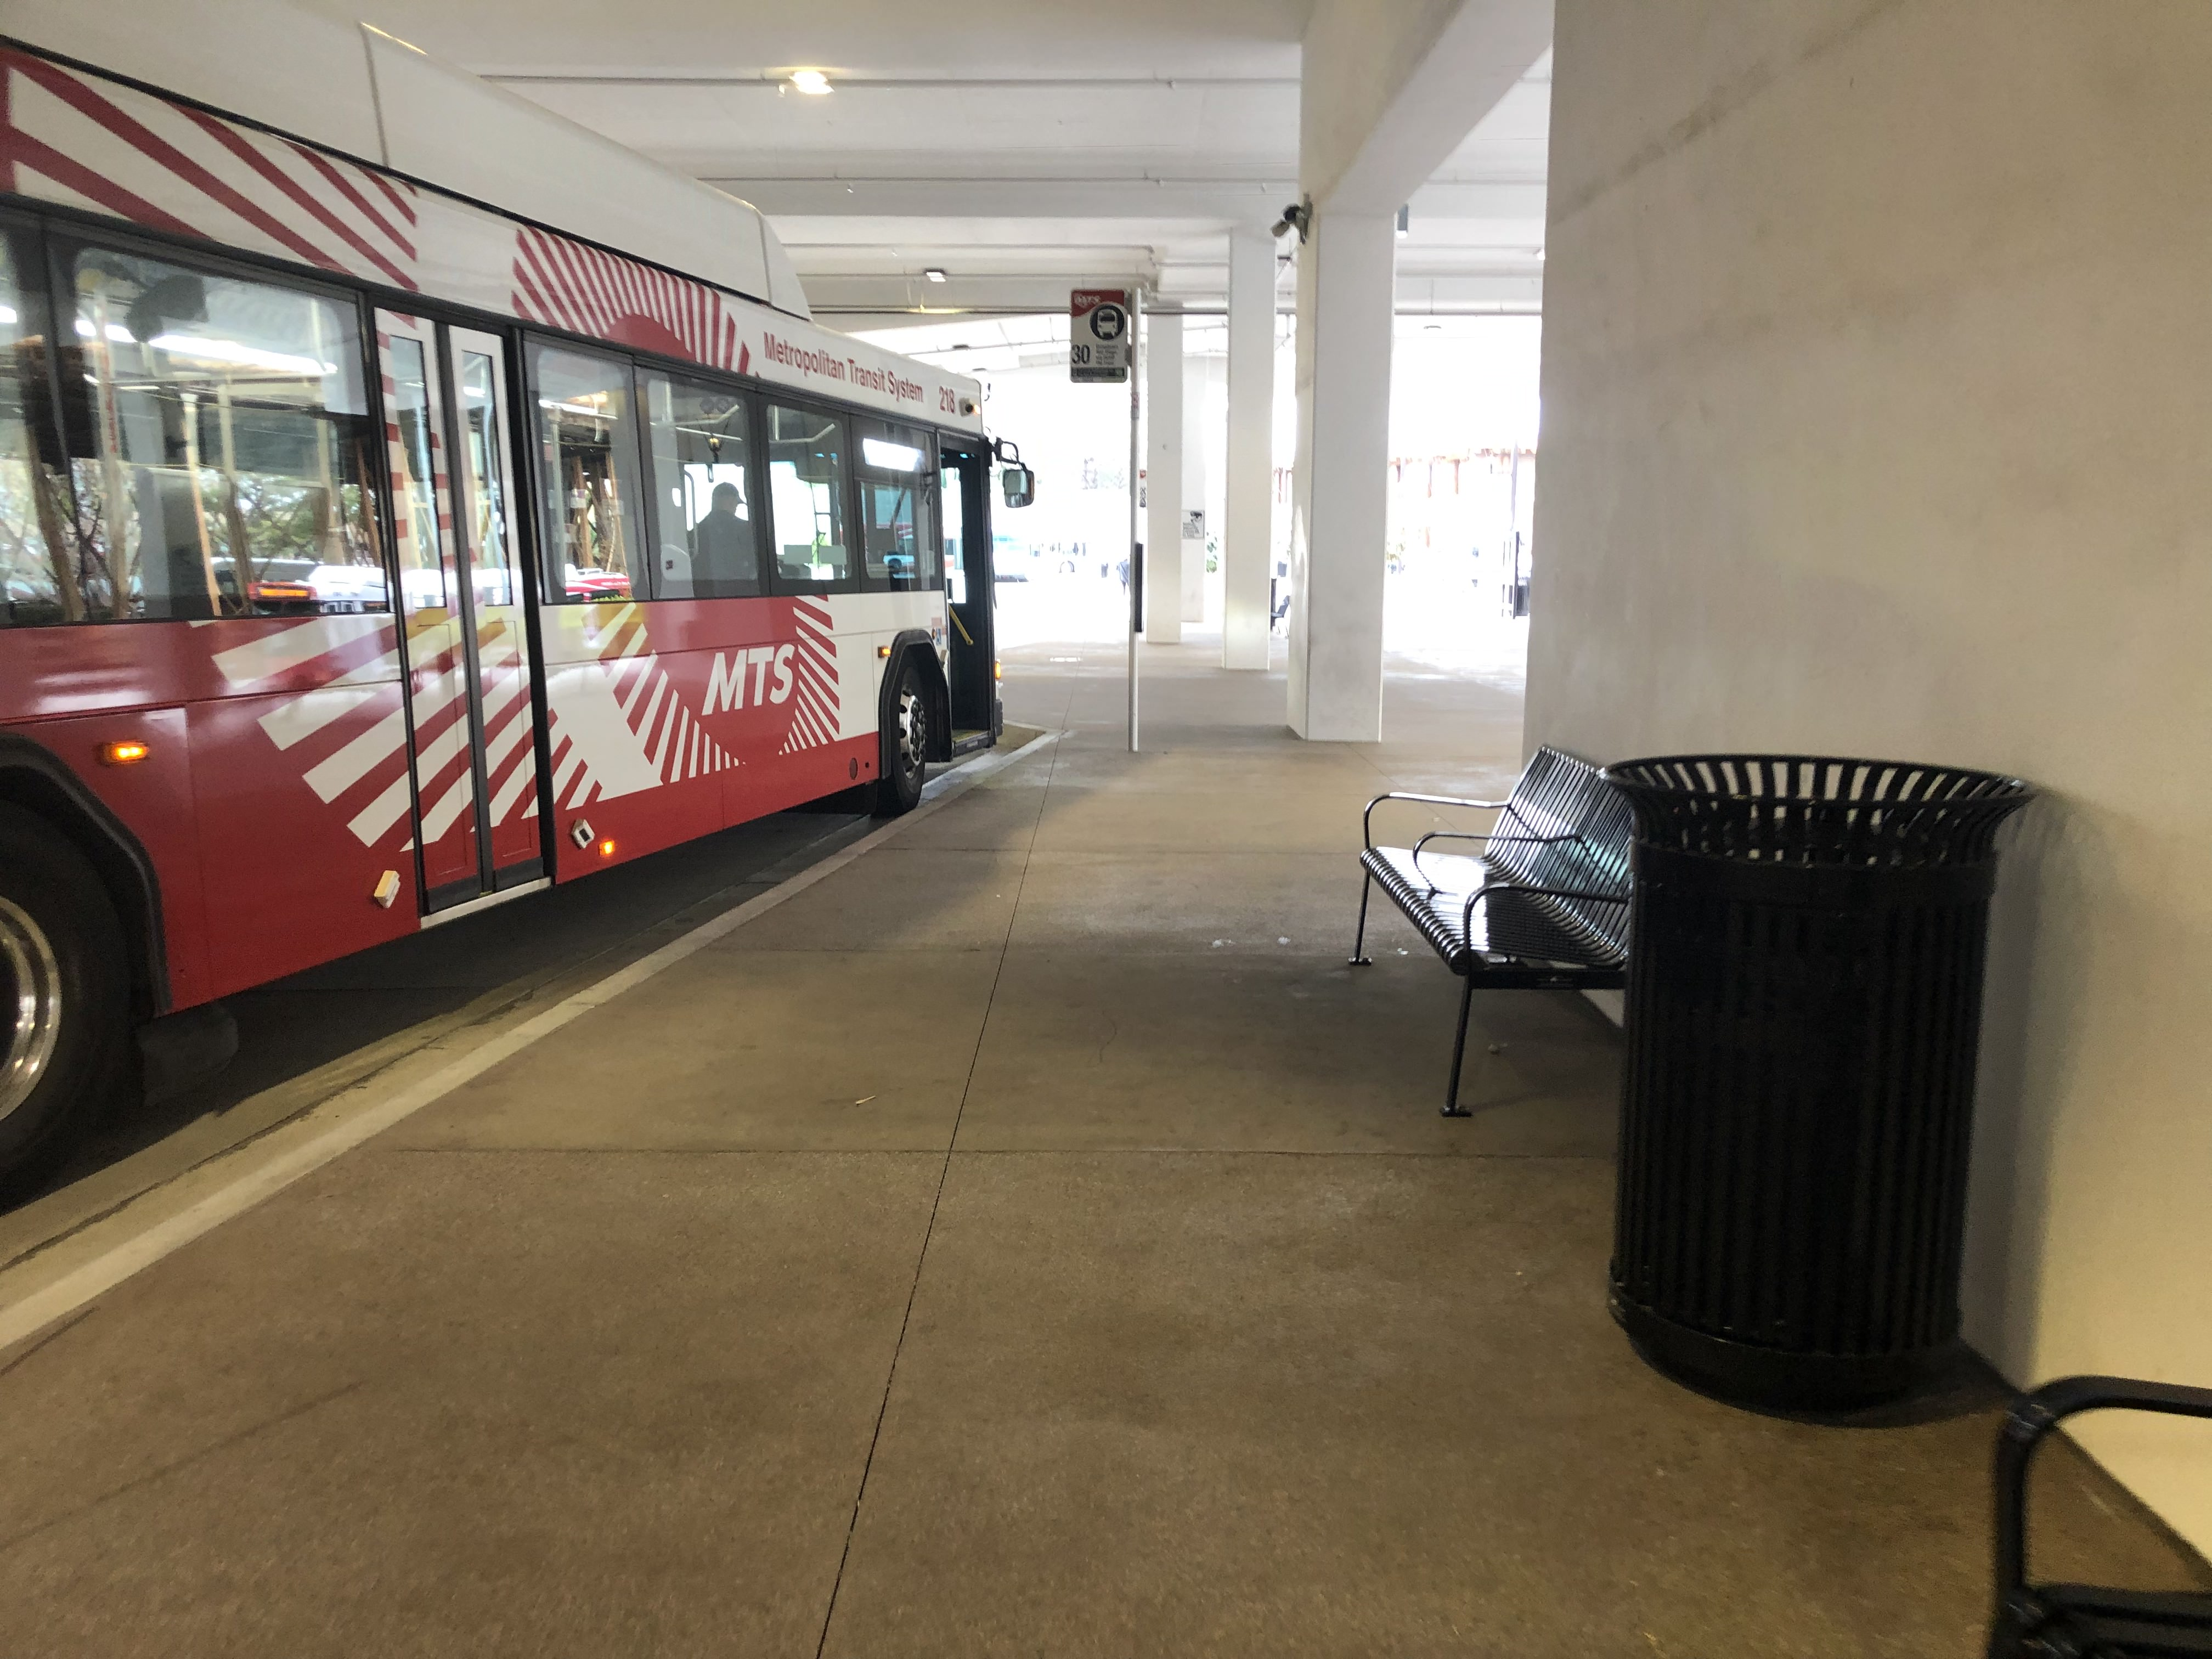Edge: (42, 735, 1036, 1377)
Obstacle: (12, 19, 1017, 1136), (1618, 751, 2022, 1425), (1355, 744, 1644, 1126), (1972, 1344, 2198, 1643), (1294, 228, 1390, 755), (1069, 289, 1150, 763)
